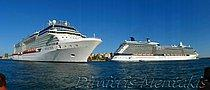Ship: (9, 16, 106, 64), (110, 35, 205, 67)
